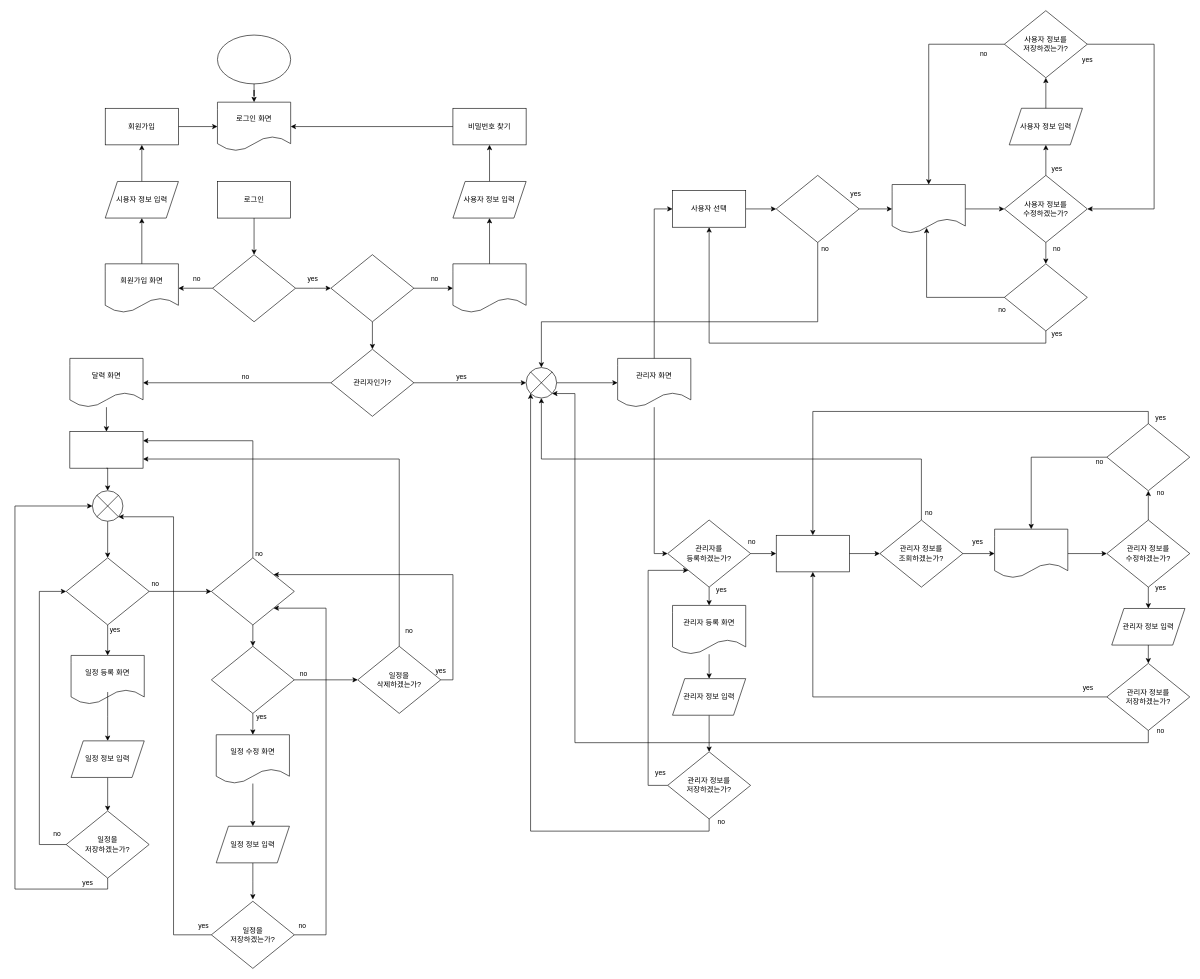
The diagram is 1200 pixels wide and 979 high, and some of its shapes have lost their labels. Each missing label, with the centre of its shape:
"관리자 선택" belongs at pixel 812 553.
"관리자 정보 상세 화면" belongs at pixel 1031 553.
"관리자 정보를 삭제하겠는가?" belongs at pixel 1148 457.
"날짜 선택" belongs at pixel 106 449.
"비밀번호 찾기 화면" belongs at pixel 489 288.
"사용자 정보 상세 화면" belongs at pixel 928 208.
"사용자 정보를 삭제하겠는가?" belongs at pixel 1045 297.
"사용자 정보를 조회하겠는가?" belongs at pixel 817 208.
"올바른 비밀번호를 알고 있는가?" belongs at pixel 372 288.
"일정을 등록하겠는가?" belongs at pixel 107 591.
"일정을 수정하겠는가?" belongs at pixel 252 679.
"프로그램 시작" belongs at pixel 254 59.
"프로그램에 등록된 회원인가?" belongs at pixel 254 288.
"해당 날짜에 등록된 일정이 있는가?" belongs at pixel 252 591.
